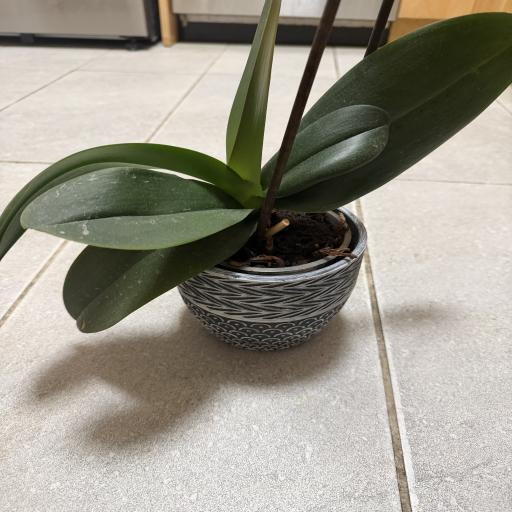Plant Pot: (180, 200, 369, 351)
